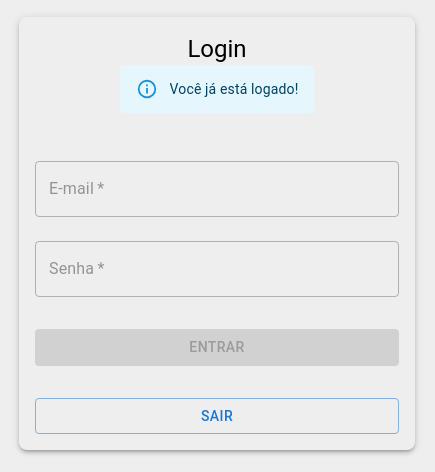
LoginPage › allows user to logout
What coordinates should you click on to do the following:
click the button "Sair"
I would click on:
 (217, 416)
Its box is [35,398,399,434].
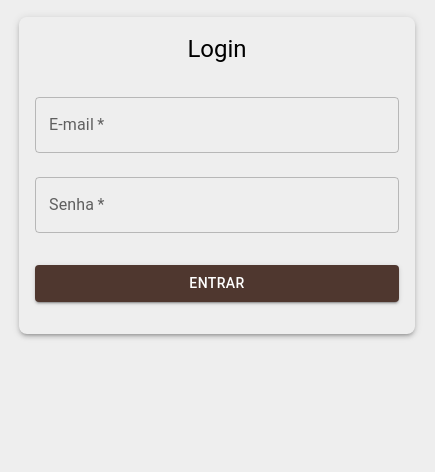
Expected: the field labelled "E-mail *" is empty, [35,97,399,153]
Now the text "Você já está logado!" is gone
